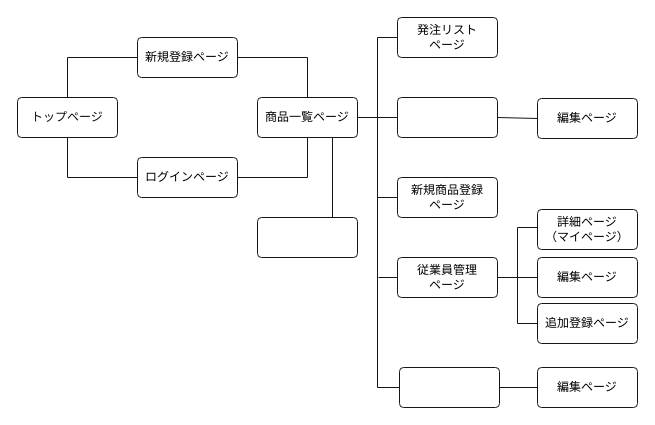
The diagram is 655 pixels wide and 425 high, and some of its shapes have lost their labels. The shapes that lost their labels are listed below. From the top down, each one's box as (x1, y1, x2, y2) in pixels, then its label:
(396, 96, 498, 138): 商品詳細ページ
(256, 216, 358, 258): チャット
(398, 366, 500, 408): ユーザー マイページ
